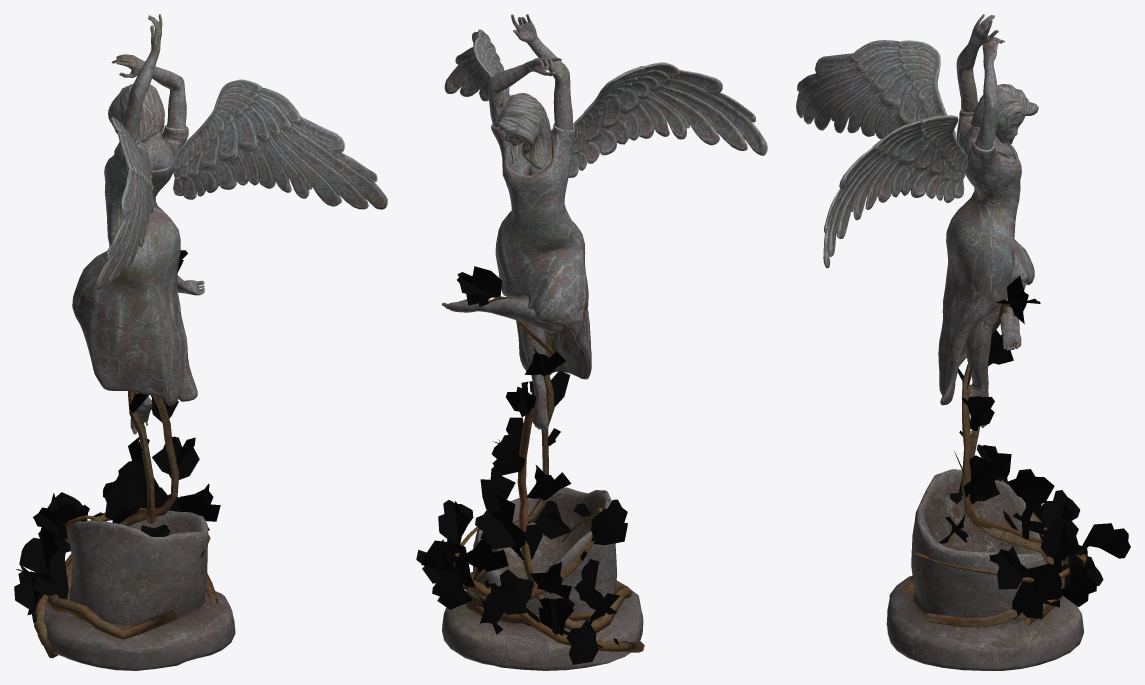
Rendered from SM_AngelStatue_02.fbx.
The picture shows the model from 3 angles, left to right: view 1: azimuth 30°, elevation 25°; view 2: azimuth 150°, elevation 25°; view 3: azimuth 270°, elevation 25°; orthographic projection. The views are drawn at different scales.
Parts seen in each view (by area): view 1: SM_AngelStatue_02_LOD0; view 2: SM_AngelStatue_02_LOD0; view 3: SM_AngelStatue_02_LOD0.
Part boxes in pixels (bbox=[...]): SM_AngelStatue_02_LOD0: bbox=[14, 14, 387, 670]; SM_AngelStatue_02_LOD0: bbox=[416, 14, 767, 670]; SM_AngelStatue_02_LOD0: bbox=[796, 14, 1130, 670].
Bounding box in the file's own units: 1193 × 1103 × 2276.
